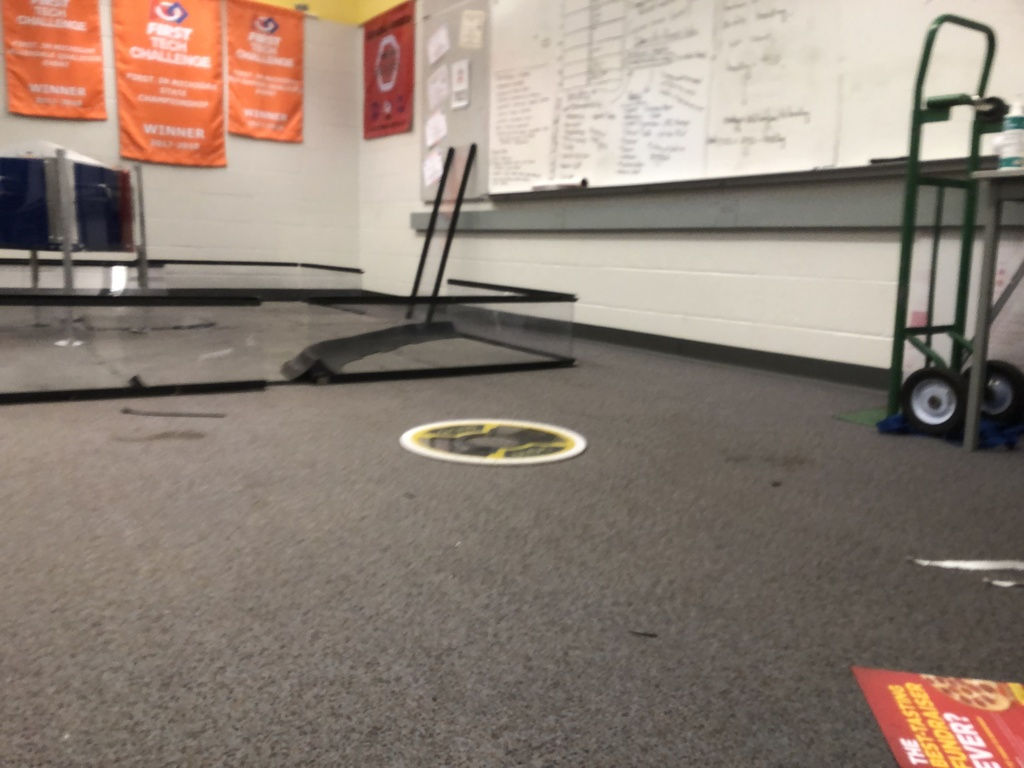hatch_panel: (387, 407, 601, 473)
